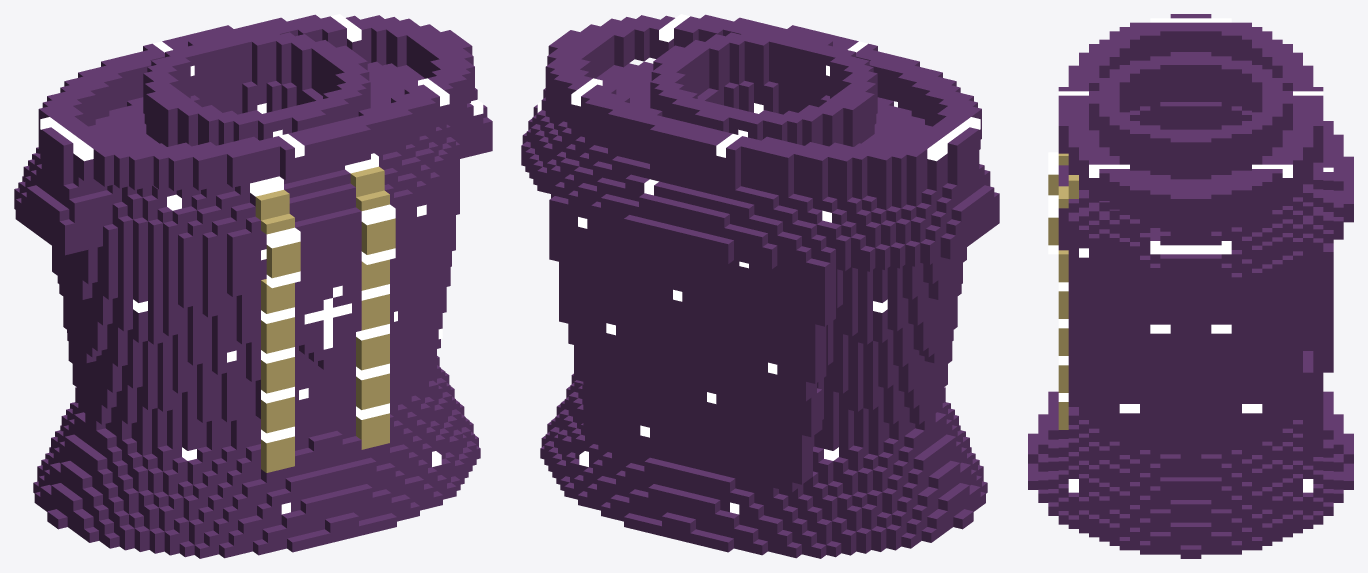
Rendered from mystic_epic_chest.glb.
3 renders of one model, left to right at view 1: azimuth 30°, elevation 25°; view 2: azimuth 150°, elevation 25°; view 3: azimuth 270°, elevation 25°, orthographic. The views are drawn at different scales.
Parts seen in each view (by area): view 1: mystic_epic_chest; view 2: mystic_epic_chest; view 3: mystic_epic_chest.
Boxes of the visible parts, <box> form: mystic_epic_chest: <box>14,14,492,558</box>; mystic_epic_chest: <box>521,14,999,558</box>; mystic_epic_chest: <box>1028,14,1353,558</box>.
Size of the model in its own units: 0.54 by 0.48 by 0.384.
